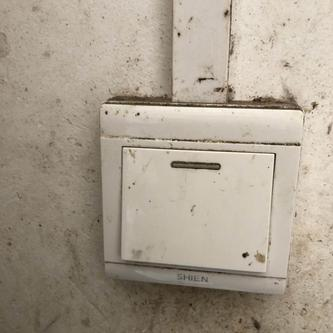switch: (115, 138, 280, 277)
